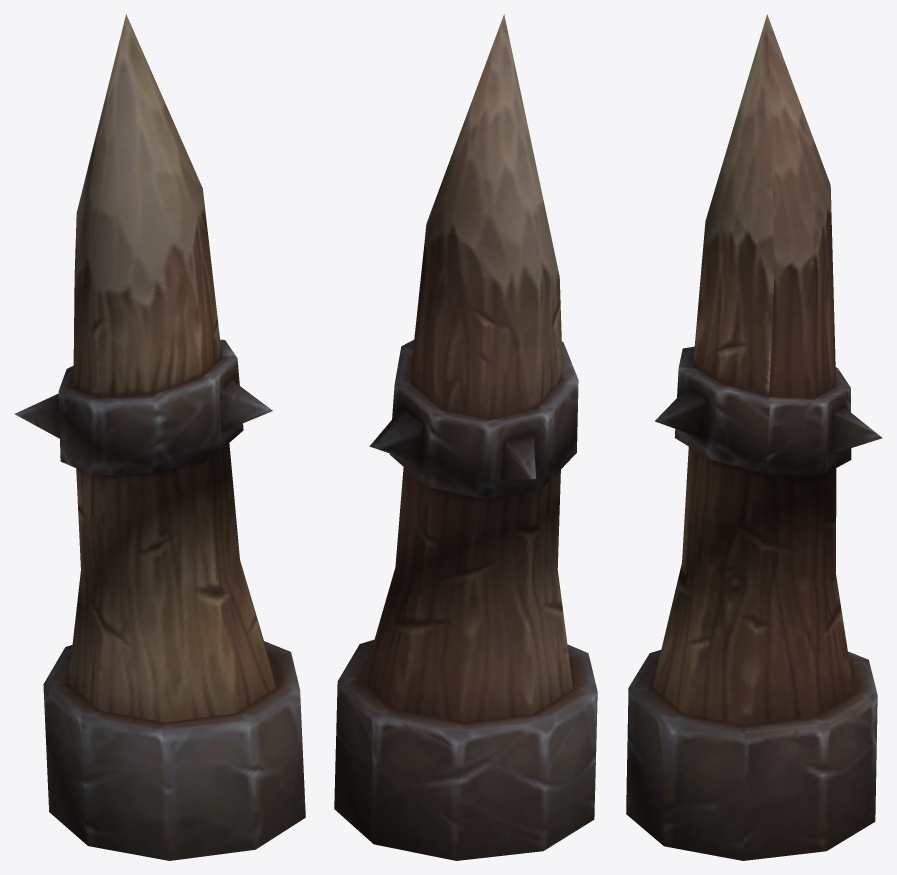
The model's file is Anmaodao_teji01.FBX.
3 views of the same model, side by side, from view 1: azimuth 30°, elevation 25°; view 2: azimuth 150°, elevation 25°; view 3: azimuth 270°, elevation 25° (orthographic). The views are drawn at different scales.
Parts seen in each view (by area): view 1: Anmaodao_teji01; view 2: Anmaodao_teji01; view 3: Anmaodao_teji01.
Boxes of the visible parts, left/top/right/bottom form: Anmaodao_teji01: left=14, top=14, right=305, bottom=860; Anmaodao_teji01: left=334, top=14, right=597, bottom=860; Anmaodao_teji01: left=626, top=14, right=882, bottom=860.
Bounding box in the file's own units: 37.04 × 36.88 × 123.
